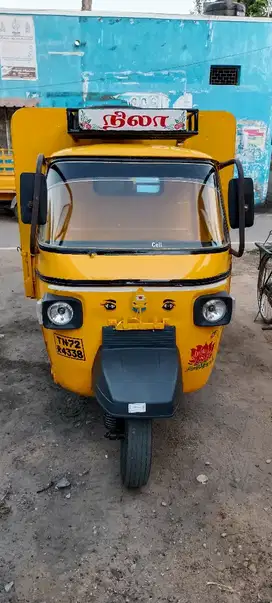auto: (10, 98, 256, 505)
numberplate: (49, 333, 93, 369)
